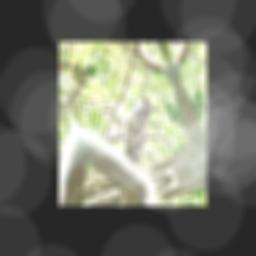Cuckoo: (107, 88, 176, 177)
